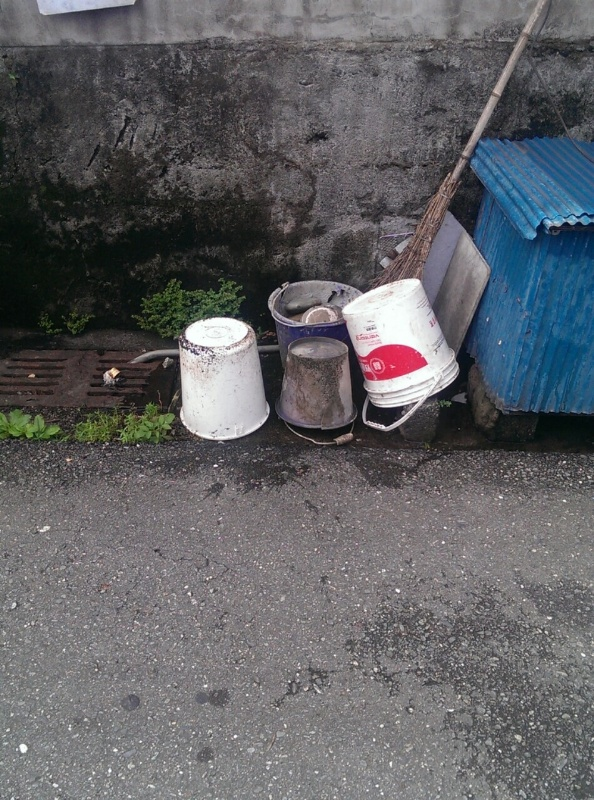bucket: (338, 277, 462, 430), (176, 314, 270, 443), (275, 337, 360, 442)
